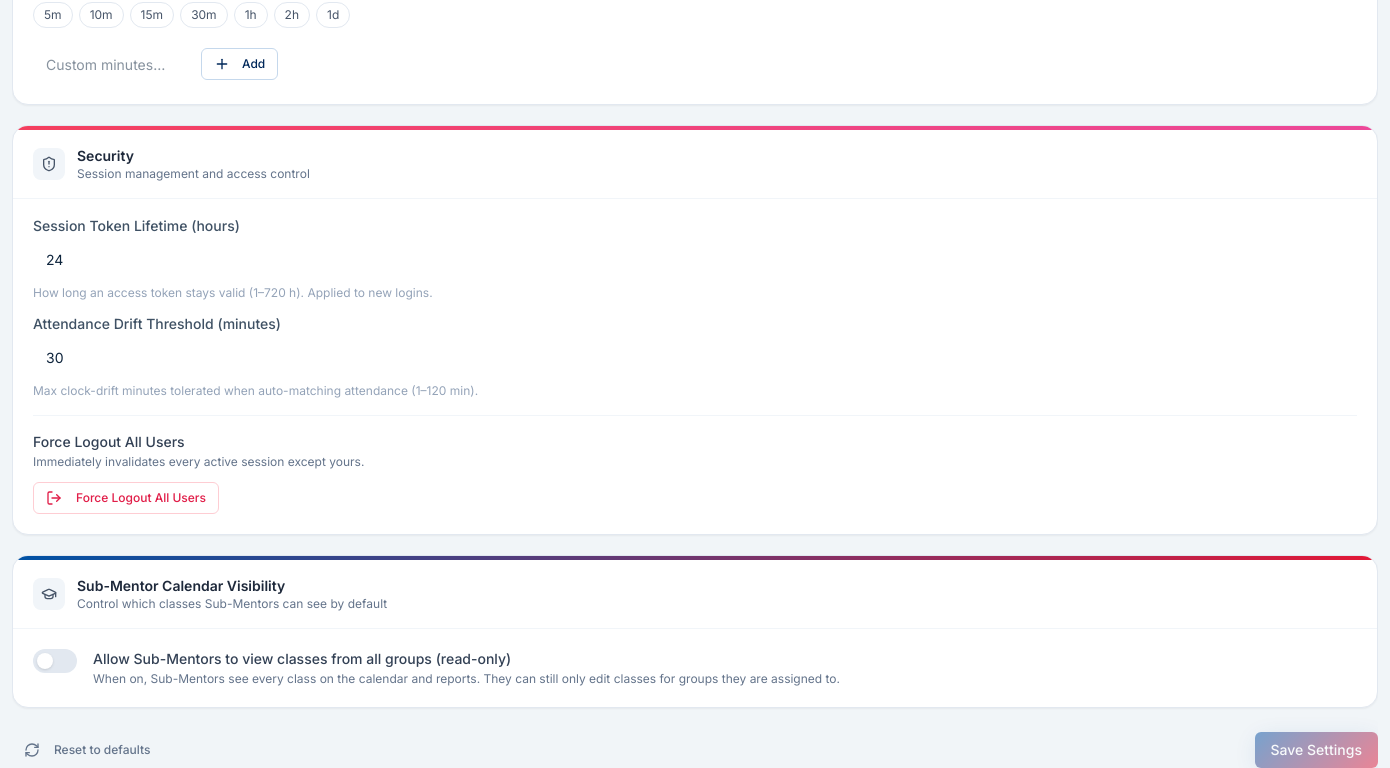
it: SettingsForm — SubMentor visibility toggle › clicking toggle flips aria-checked and marks form dirty
(page scrolled)
Step 1. Click the switch → (55, 661), box [33,649,77,673]
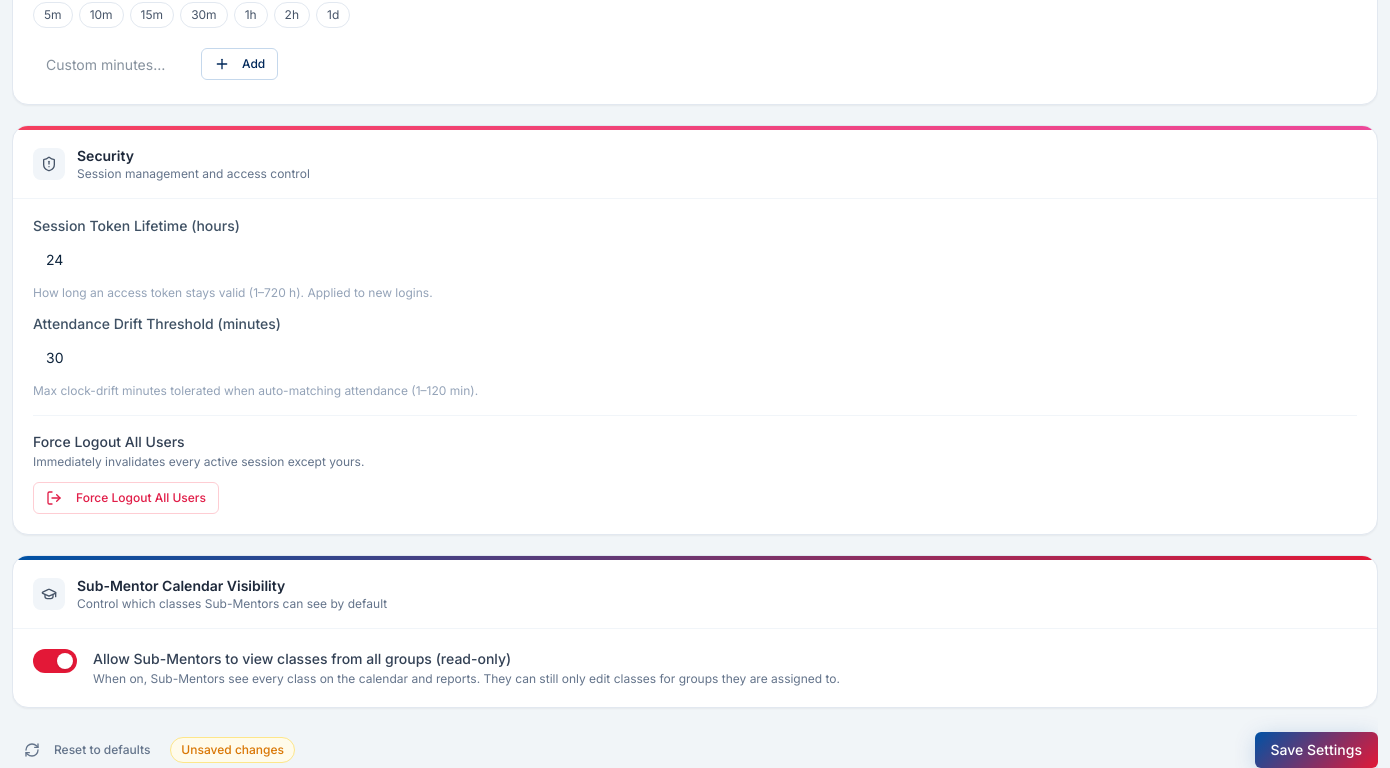
Check: the text "Unsaved changes" is shown, box [170,737,295,763]
